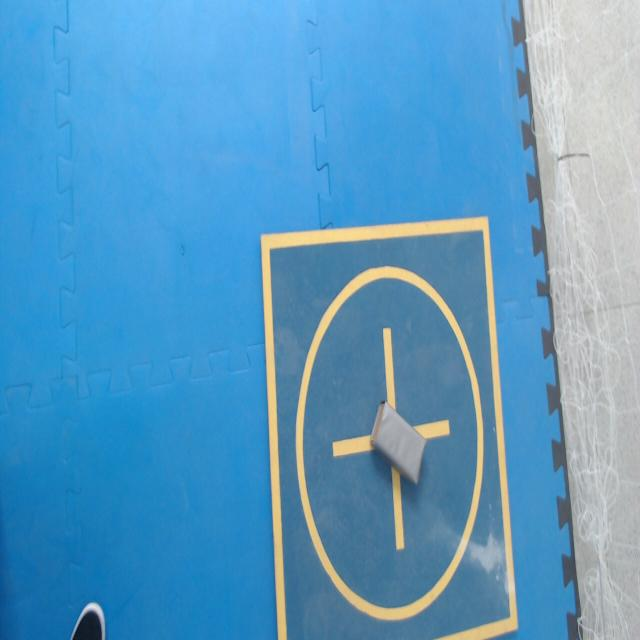lipo: (370, 403, 426, 483)
